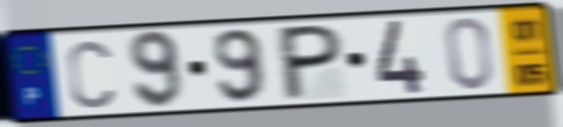0: (442, 15, 496, 92)
4: (374, 18, 428, 97)
9: (126, 28, 187, 113), (210, 26, 269, 106)
C: (64, 37, 117, 111)
P: (280, 22, 347, 104)
